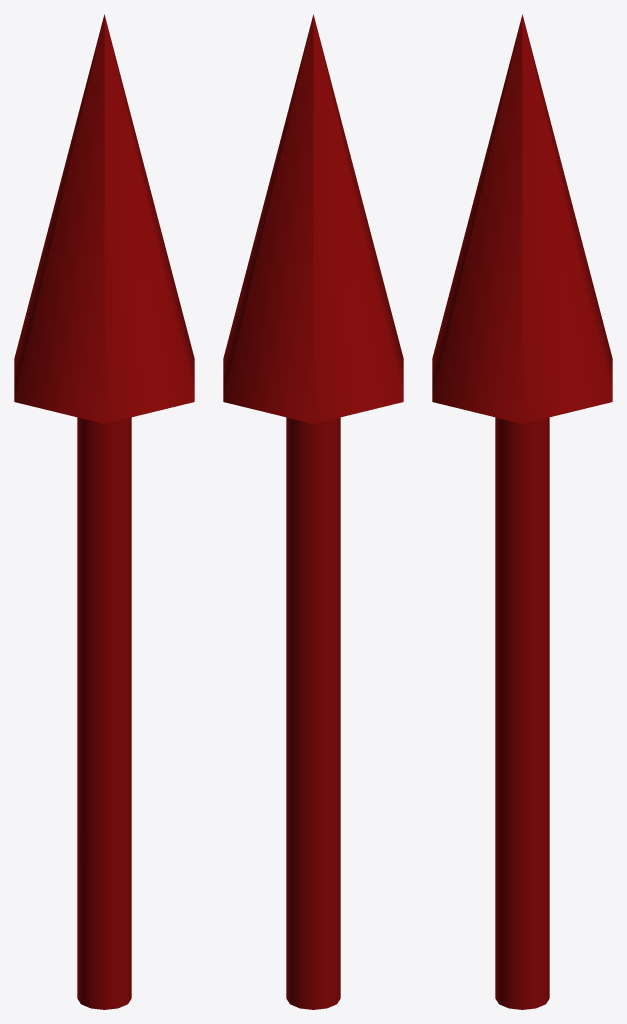
The picture shows the model from 3 angles, left to right: view 1: azimuth 30°, elevation 25°; view 2: azimuth 150°, elevation 25°; view 3: azimuth 270°, elevation 25°; orthographic projection.
Parts seen in each view (by area): view 1: Cone001, Cylinder001; view 2: Cone001, Cylinder001; view 3: Cone001, Cylinder001.
Part boxes in pixels (x1,y1,x2,y2): Cone001: (14, 14, 194, 423); Cylinder001: (77, 417, 131, 1009); Cone001: (223, 14, 403, 423); Cylinder001: (286, 417, 340, 1009); Cone001: (432, 14, 612, 423); Cylinder001: (495, 417, 549, 1009).
Size of the model in its own units: 21.49 by 112 by 18.61.
